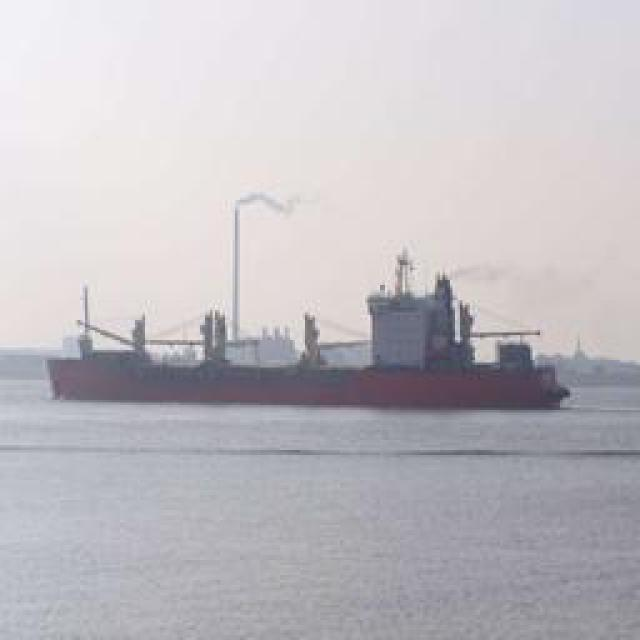Ship: (45, 230, 575, 413)
